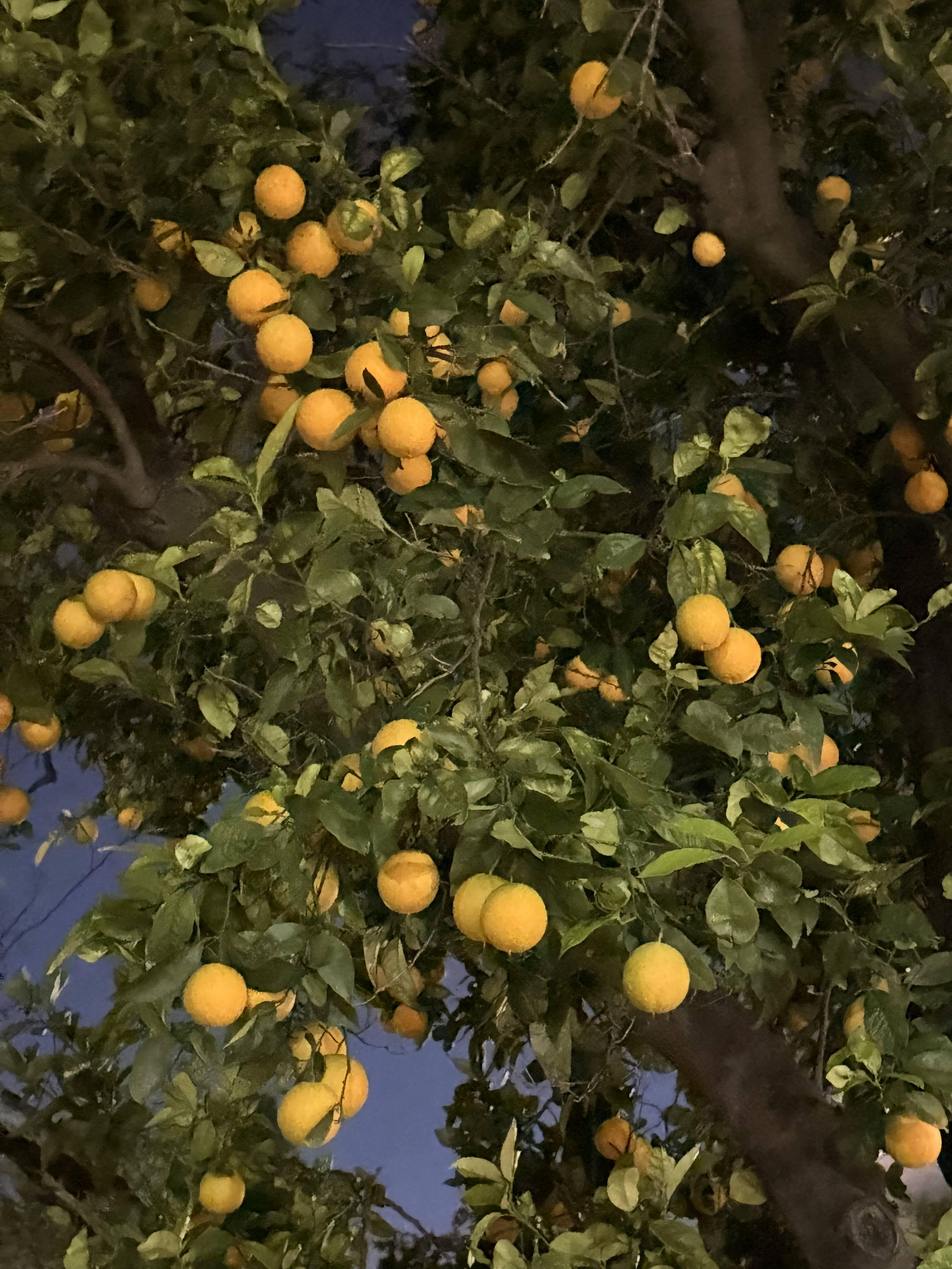orange: (623, 942, 689, 1014), (481, 883, 547, 953), (276, 1080, 343, 1146), (183, 962, 246, 1027), (377, 850, 439, 914), (296, 388, 358, 451), (345, 340, 407, 403), (275, 856, 339, 915), (378, 397, 436, 459), (453, 873, 505, 942), (227, 269, 288, 326), (256, 314, 313, 374), (705, 627, 761, 684), (767, 734, 839, 778), (675, 595, 730, 651), (326, 199, 381, 254), (885, 1114, 941, 1168), (320, 1055, 368, 1118), (286, 221, 339, 278), (570, 61, 621, 119), (82, 570, 136, 623), (254, 165, 306, 219), (53, 597, 104, 649), (774, 544, 823, 595), (290, 1022, 346, 1062), (372, 718, 424, 759), (259, 375, 300, 425), (199, 1172, 245, 1214), (390, 309, 439, 348), (904, 470, 948, 513), (815, 642, 858, 685), (385, 455, 432, 494), (242, 790, 291, 827), (594, 1117, 636, 1160), (49, 392, 94, 431), (16, 715, 61, 753), (246, 988, 295, 1021), (890, 415, 926, 459), (123, 572, 155, 621), (153, 220, 191, 260), (564, 656, 603, 690), (391, 1004, 427, 1040), (0, 785, 31, 826), (477, 359, 512, 395), (426, 332, 454, 377), (0, 389, 36, 423), (133, 279, 171, 311), (481, 386, 519, 418), (332, 752, 362, 791), (692, 232, 725, 267), (177, 736, 217, 762), (707, 473, 745, 500), (817, 176, 851, 204), (360, 416, 382, 452), (72, 816, 98, 844), (818, 554, 840, 587), (500, 300, 528, 325), (599, 676, 627, 701), (116, 807, 143, 831), (903, 454, 933, 474), (0, 693, 13, 733)
